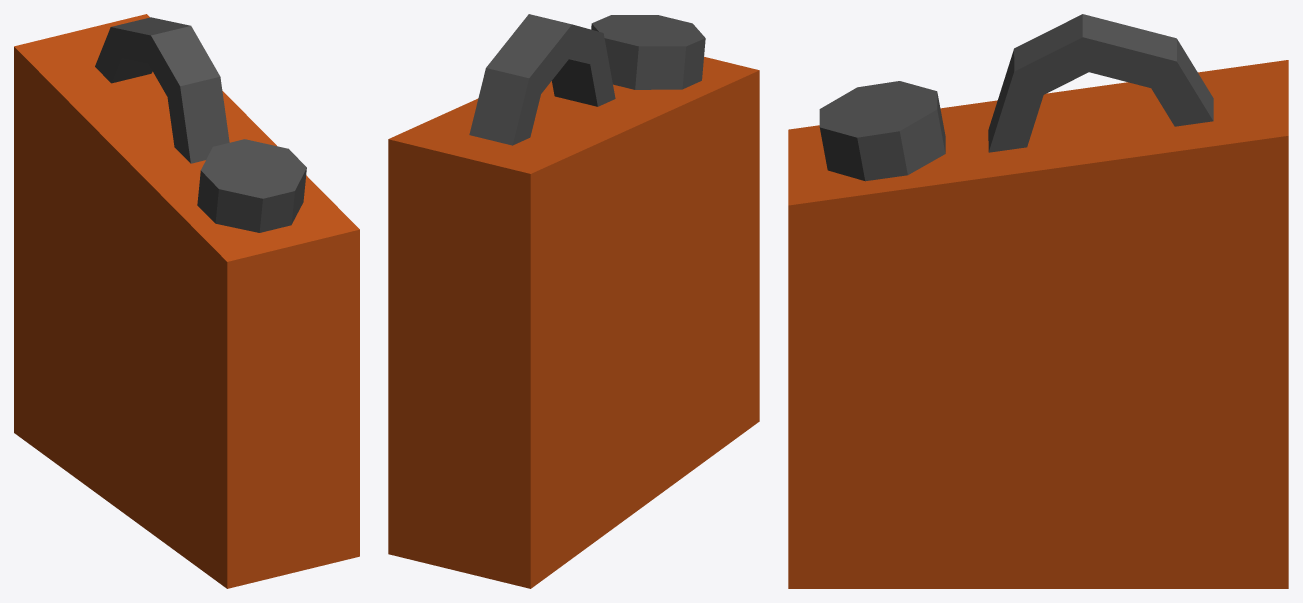
3 views of the same model, side by side, from view 1: azimuth 30°, elevation 25°; view 2: azimuth 150°, elevation 25°; view 3: azimuth 270°, elevation 25° (orthographic). The views are drawn at different scales.
Visible parts, largest first — view 1: G-22; view 2: G-22; view 3: G-22.
Part boxes in pixels (x1,y1,x2,y2): G-22: (14,14,359,588); G-22: (388,14,759,588); G-22: (788,14,1288,588).
Bounding box in the file's own units: 31.37 × 102 × 87.26.
